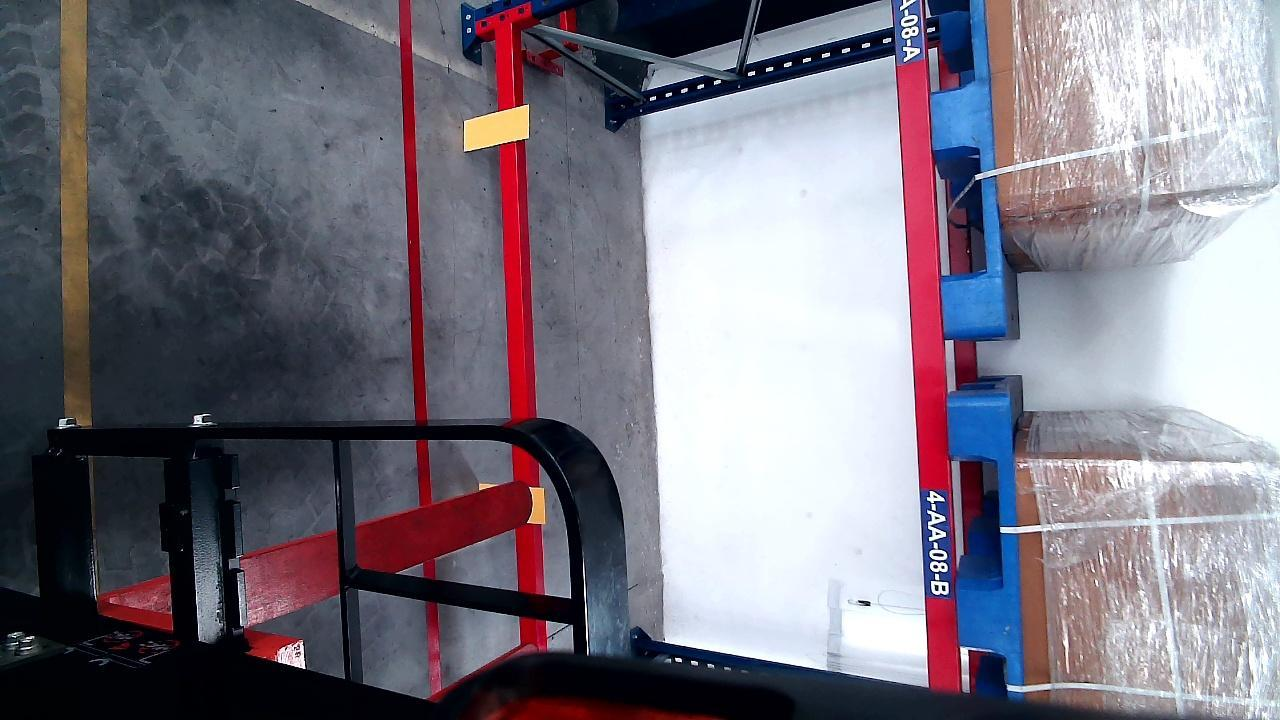red_line: (398, 0, 426, 509)
yellow_line: (59, 0, 93, 423)
